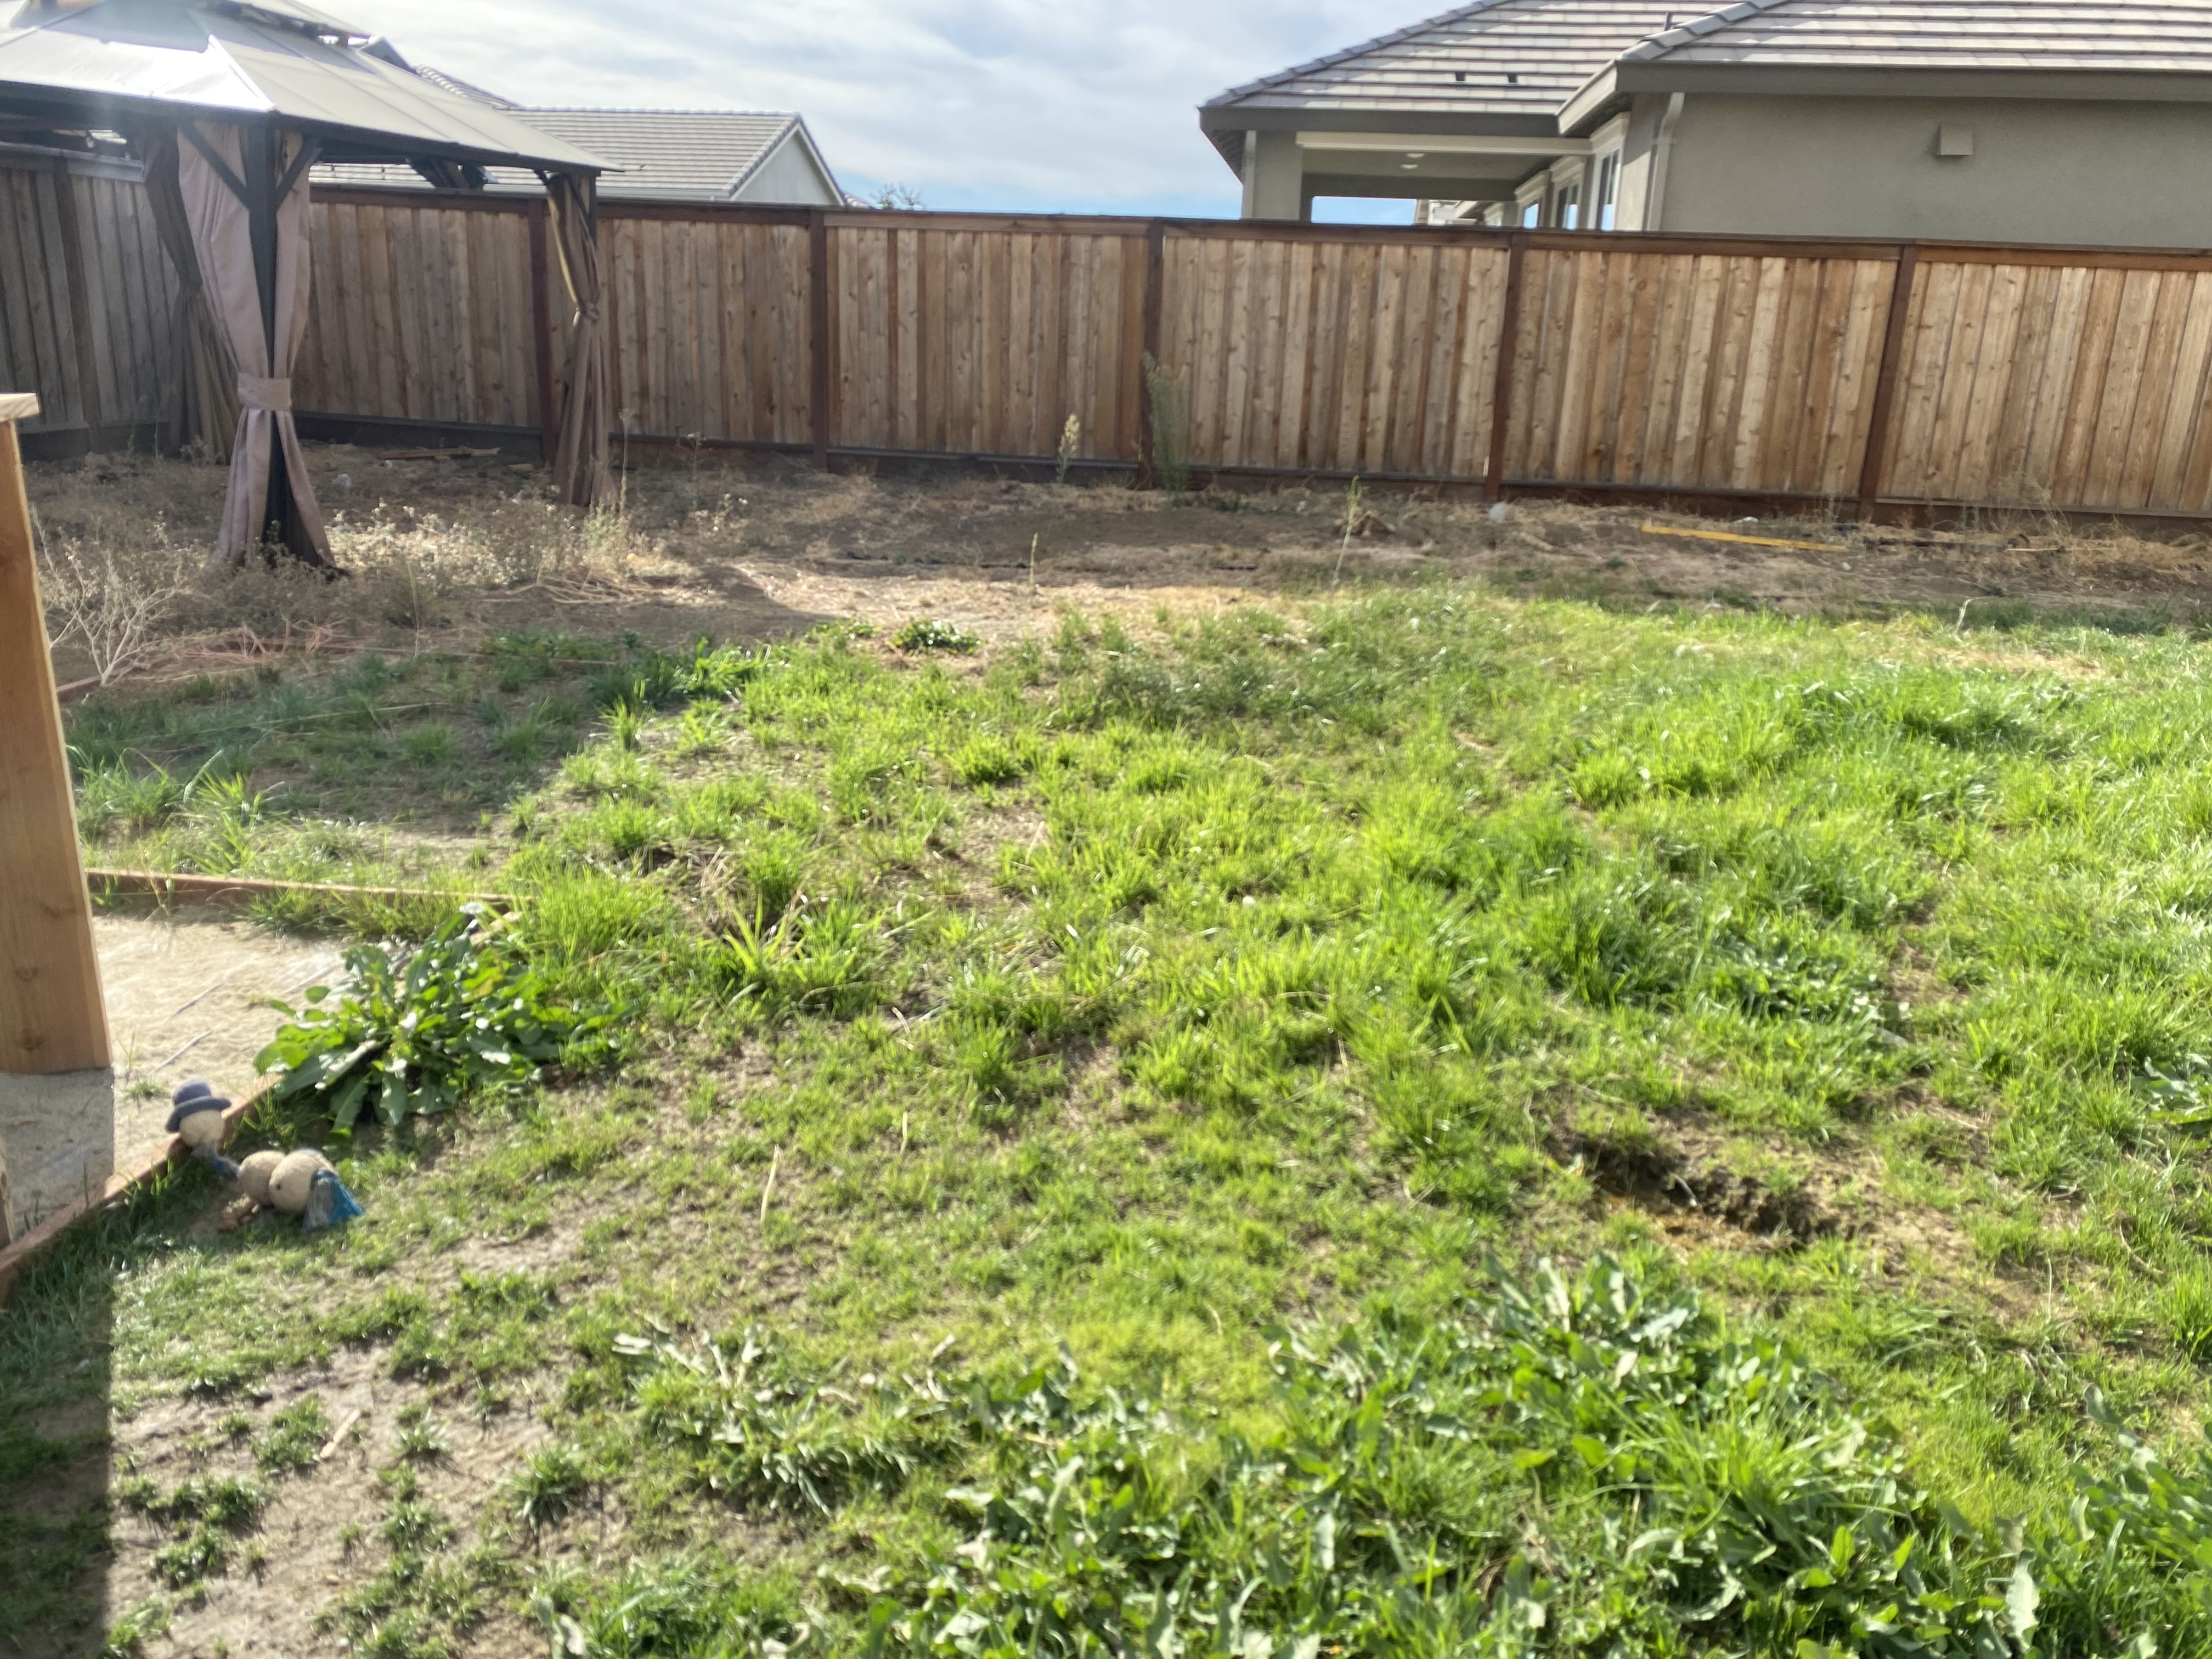weed: (1609, 1394, 1928, 1631), (944, 1375, 1273, 1579), (261, 932, 580, 1093), (1467, 1260, 1710, 1412), (618, 1305, 831, 1436)
